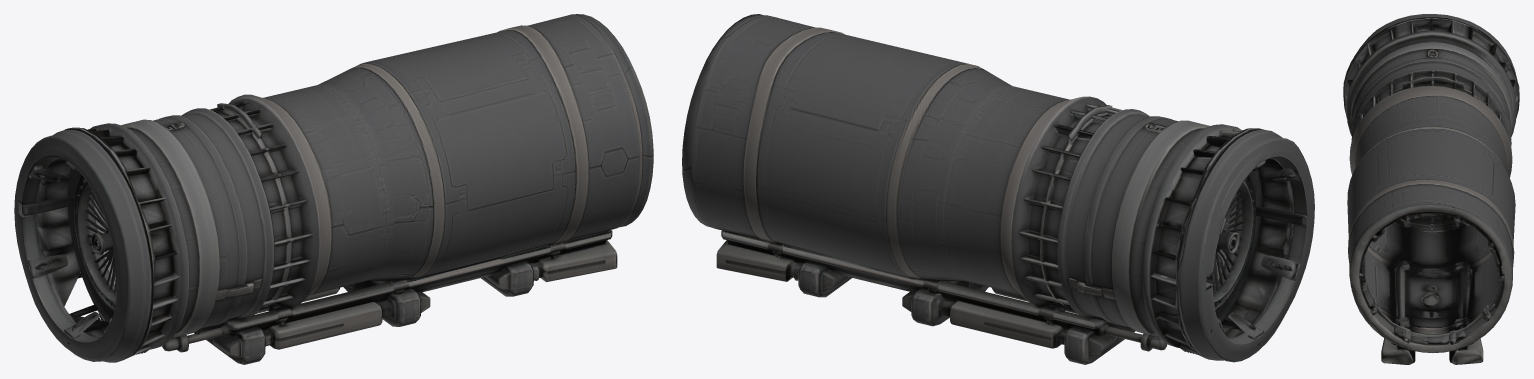
Rendered from spacecraft+engine+3d+model.fbx.
The picture shows the model from 3 angles, left to right: view 1: azimuth 30°, elevation 25°; view 2: azimuth 150°, elevation 25°; view 3: azimuth 270°, elevation 25°; orthographic projection. The views are drawn at different scales.
Visible parts, largest first — view 1: cd01ff65_f98b_4447_9d84_e1fcb2d18b1f; view 2: cd01ff65_f98b_4447_9d84_e1fcb2d18b1f; view 3: cd01ff65_f98b_4447_9d84_e1fcb2d18b1f.
Part boxes in pixels (x1,y1,x2,y2): cd01ff65_f98b_4447_9d84_e1fcb2d18b1f: (14,14,653,364); cd01ff65_f98b_4447_9d84_e1fcb2d18b1f: (682,14,1314,364); cd01ff65_f98b_4447_9d84_e1fcb2d18b1f: (1343,14,1519,364).
Size of the model in its own units: 0.9995 by 0.4351 by 0.3892.
Materials: 1 (1 with a texture image).
